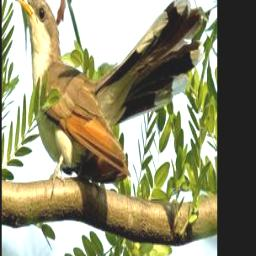Cuckoo: (14, 0, 205, 188)
